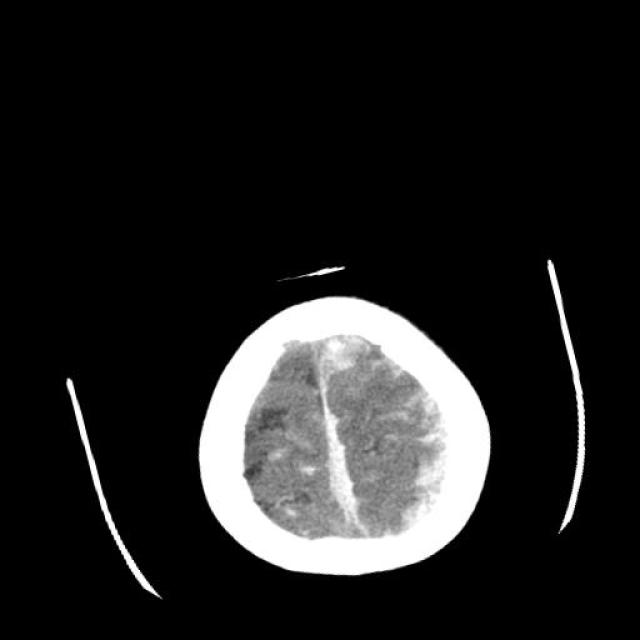Intraparenchymal: (253, 419, 329, 497)
Subarachnoid: (371, 383, 461, 462), (356, 344, 420, 395)
Subdural: (286, 396, 390, 552), (277, 297, 399, 403)
